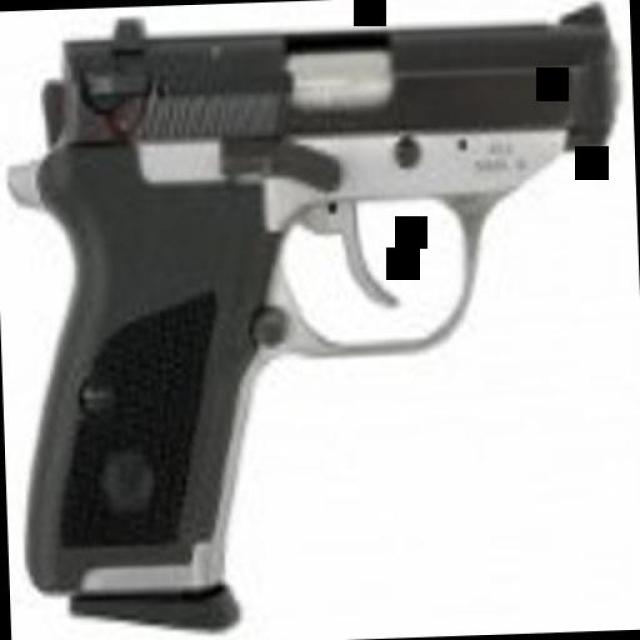gun: (0, 0, 628, 611)
